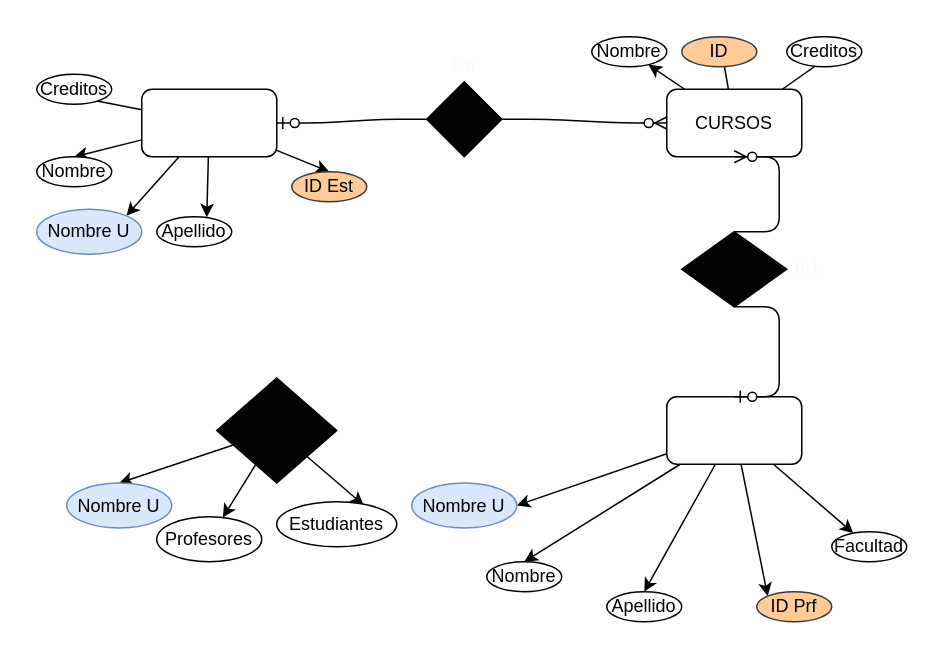
This 933x648 diagram has some shape labels left out. Here are the shapes that lost their labels. From the top down, the box of each, then its label:
(140, 88, 277, 157): ESTUDIANTE
(425, 80, 502, 157): Tiene
(680, 230, 787, 307): Enseña
(215, 376, 337, 483): Pertenece
(665, 395, 802, 464): PROFESOR
